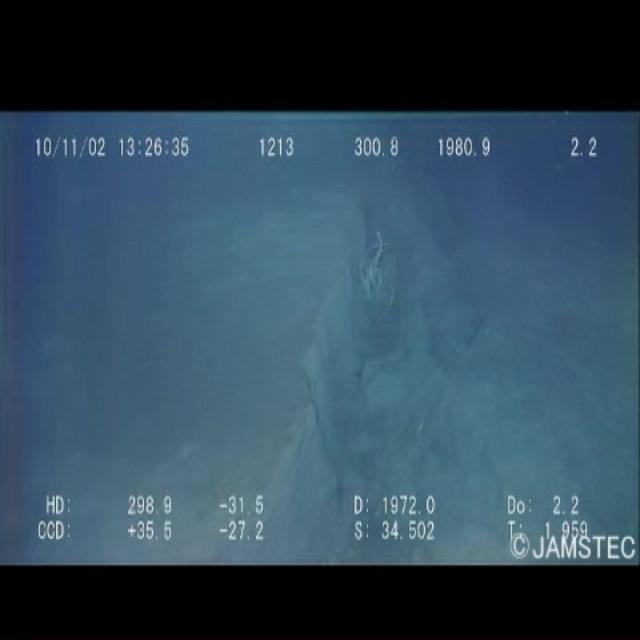Rope: (342, 216, 408, 328)
